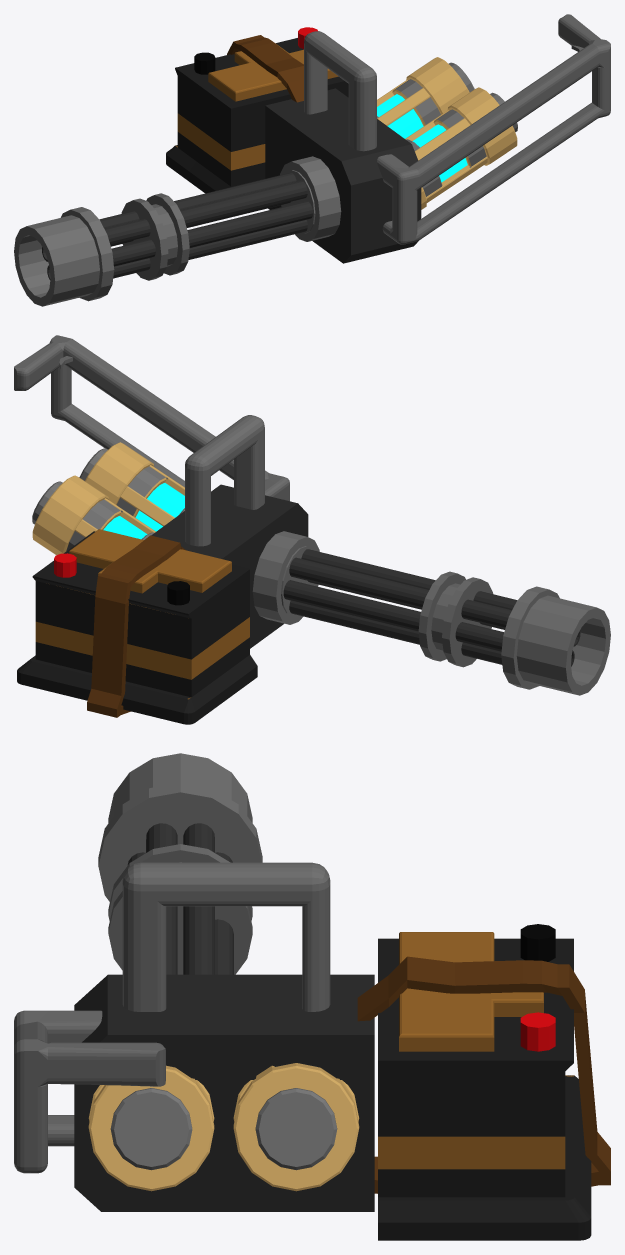
Rendered from Minigun.fbx.
3 renders of one model, top to bottom at view 1: azimuth 30°, elevation 25°; view 2: azimuth 150°, elevation 25°; view 3: azimuth 270°, elevation 25°, orthographic. The views are drawn at different scales.
Parts seen in each view (by area): view 1: Cylinder.024, Cube.026, Cube.028, Car Battery.003, Cylinder.027, Cube.027; view 2: Car Battery.003, Cylinder.024, Cube.026, Cylinder.027, Cube.028, Cube.027; view 3: Car Battery.003, Cube.026, Cylinder.027, Cylinder.024, Cube.027, Cube.028.
Part boxes in pixels (x1,y1,x2,y2): Cylinder.024: [14, 156, 341, 306]; Cube.026: [227, 35, 421, 263]; Cube.028: [377, 14, 610, 244]; Car Battery.003: [166, 27, 348, 193]; Cylinder.027: [377, 57, 517, 209]; Cube.027: [304, 31, 376, 151]; Car Battery.003: [17, 529, 257, 724]; Cylinder.024: [252, 531, 610, 695]; Cube.026: [87, 484, 308, 717]; Cylinder.027: [32, 442, 184, 555]; Cube.028: [14, 335, 289, 501]; Cube.027: [185, 415, 264, 546]; Car Battery.003: [378, 924, 591, 1240]; Cube.026: [74, 956, 610, 1211]; Cylinder.027: [88, 1063, 359, 1191]; Cylinder.024: [98, 753, 262, 974]; Cube.027: [122, 862, 330, 1011]; Cube.028: [14, 1010, 165, 1173].
Bounding box in the file's own units: 279 × 90.65 × 155.
